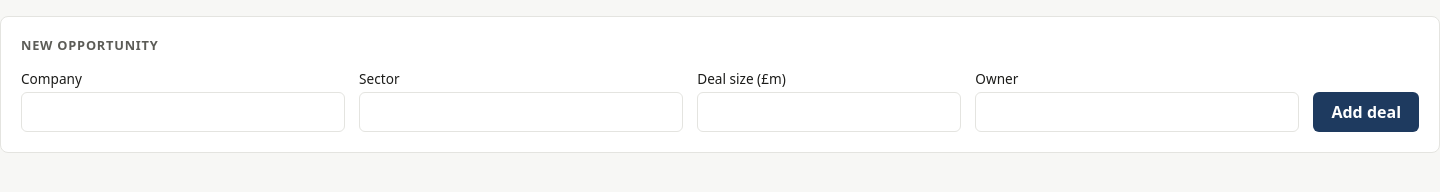
Scenario: AddDealForm › rejects a size of 0
Type "Zero Co" into the field labelled "Company" at (183, 112), box [21, 92, 345, 132]
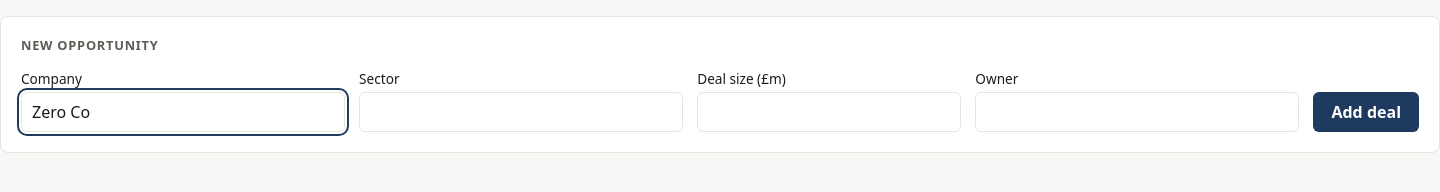
Type "0" into the field labelled "Deal size (£m)" at (829, 112), box [697, 92, 961, 132]
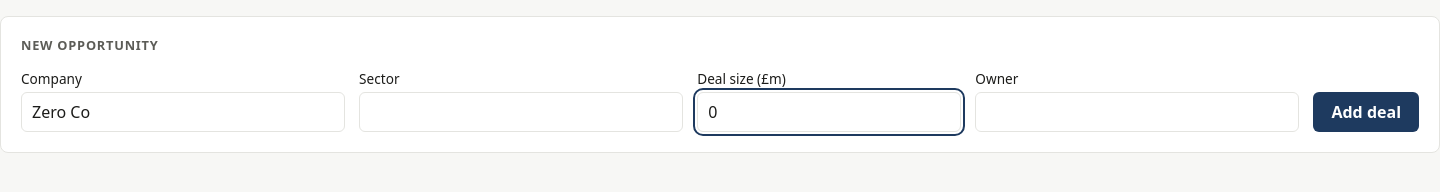
Click the button "Add deal" at (1366, 112), box [1313, 92, 1419, 132]
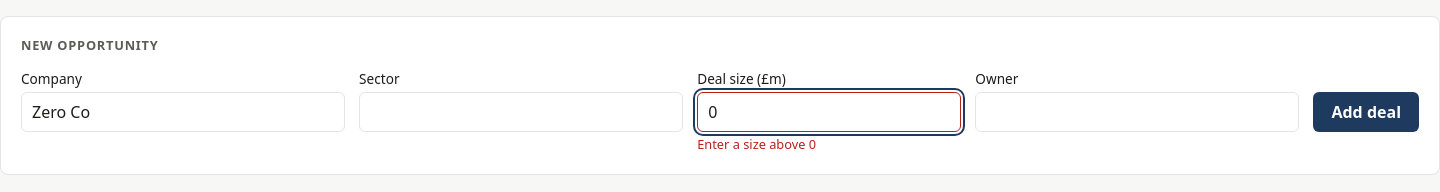
Now the message reads "Enter a size above 0", box [697, 135, 816, 153]
